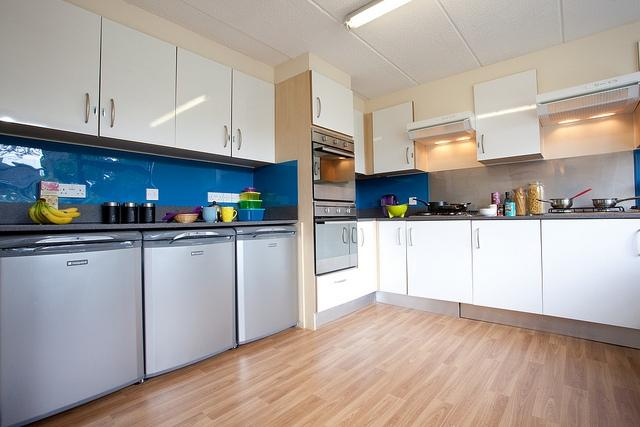banana: (41, 201, 74, 224), (45, 201, 82, 218), (28, 199, 45, 224)
